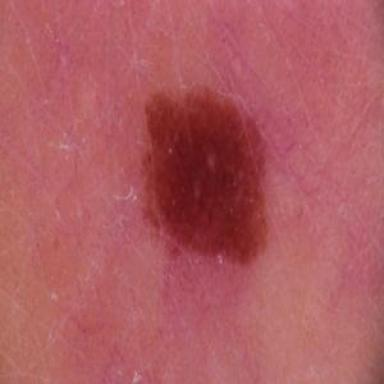Melanoma: (144, 88, 264, 260)
